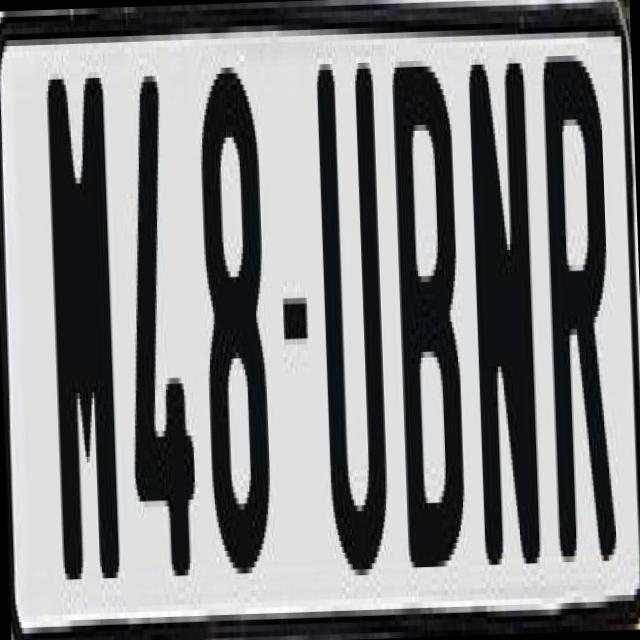4: (120, 74, 206, 588)
8: (197, 49, 282, 562)
B: (389, 64, 474, 596)
M: (44, 71, 128, 585)
N: (463, 56, 536, 559)
U: (316, 49, 398, 582)
